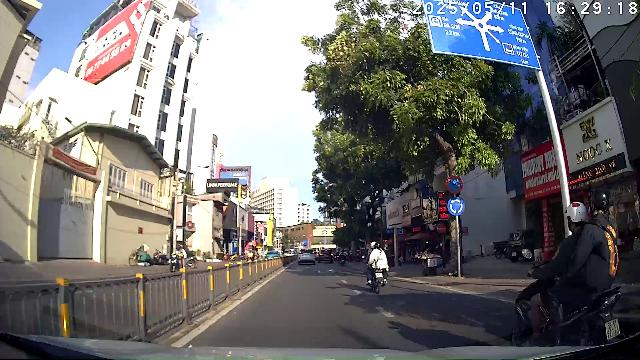131a-cam-do-xe: (445, 175, 463, 194)
303-noi-giao-nhau-chay-theo-vong-xuyen: (447, 196, 465, 216)
